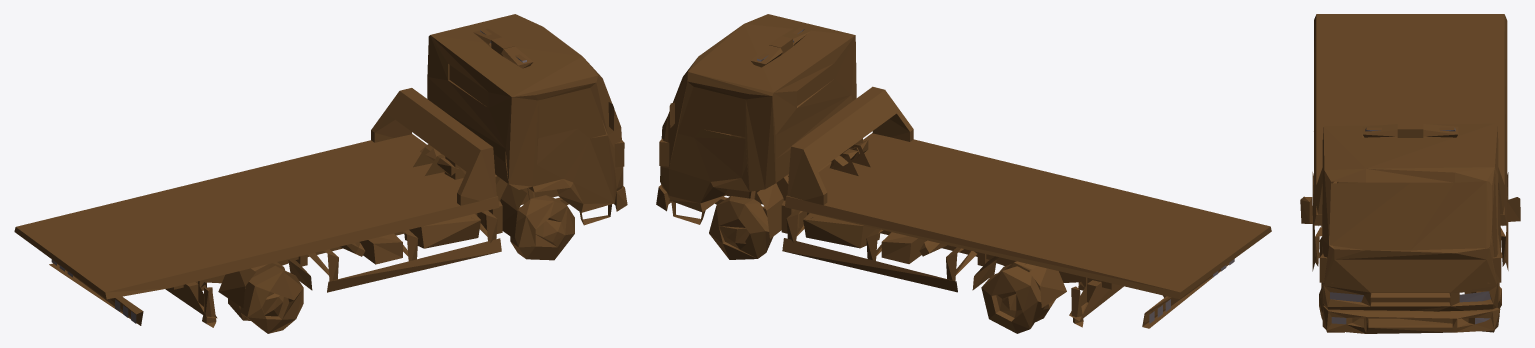
Rendered from civ-tow.lod1.glb.
The picture shows the model from 3 angles, left to right: view 1: azimuth 30°, elevation 25°; view 2: azimuth 150°, elevation 25°; view 3: azimuth 270°, elevation 25°; orthographic projection. The views are drawn at different scales.
Visible parts, largest first — view 1: towtruck_towtruck_0; view 2: towtruck_towtruck_0; view 3: towtruck_towtruck_0.
Boxes of the visible parts, bbox=[...] form: towtruck_towtruck_0: bbox=[14, 14, 627, 333]; towtruck_towtruck_0: bbox=[656, 14, 1271, 333]; towtruck_towtruck_0: bbox=[1300, 14, 1520, 333].
Size of the model in its own units: 6.93 by 2.38 by 2.38.
